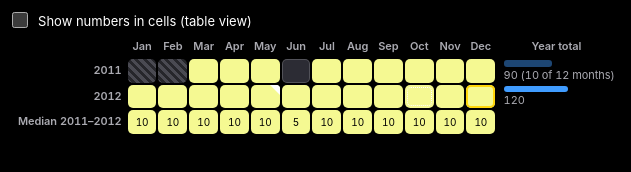
BurningCalendar › shows numbers when the table view is on
Click the checkbox labelled "Show numbers in cells (table view)" at point(20, 20), box [12,12,28,28]
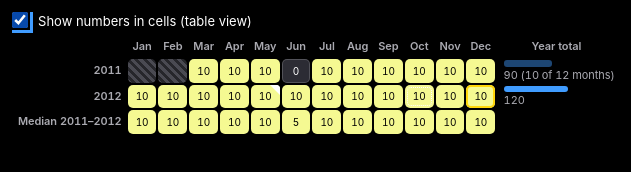
Result: the cell named "Jul 2011" reads "10" at [320,65,333,77]
